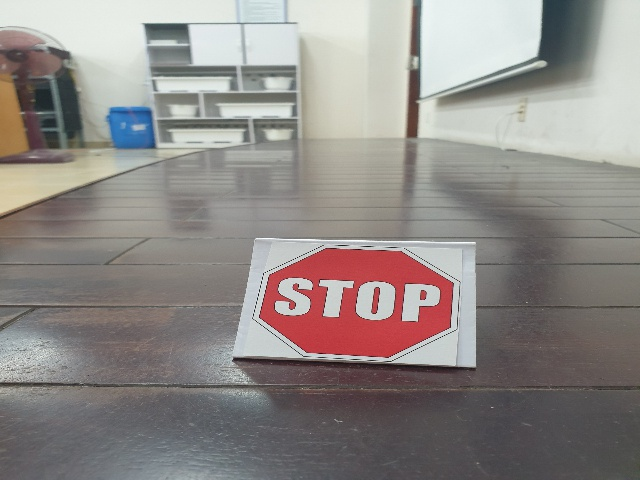Stop: (252, 244, 463, 366)
